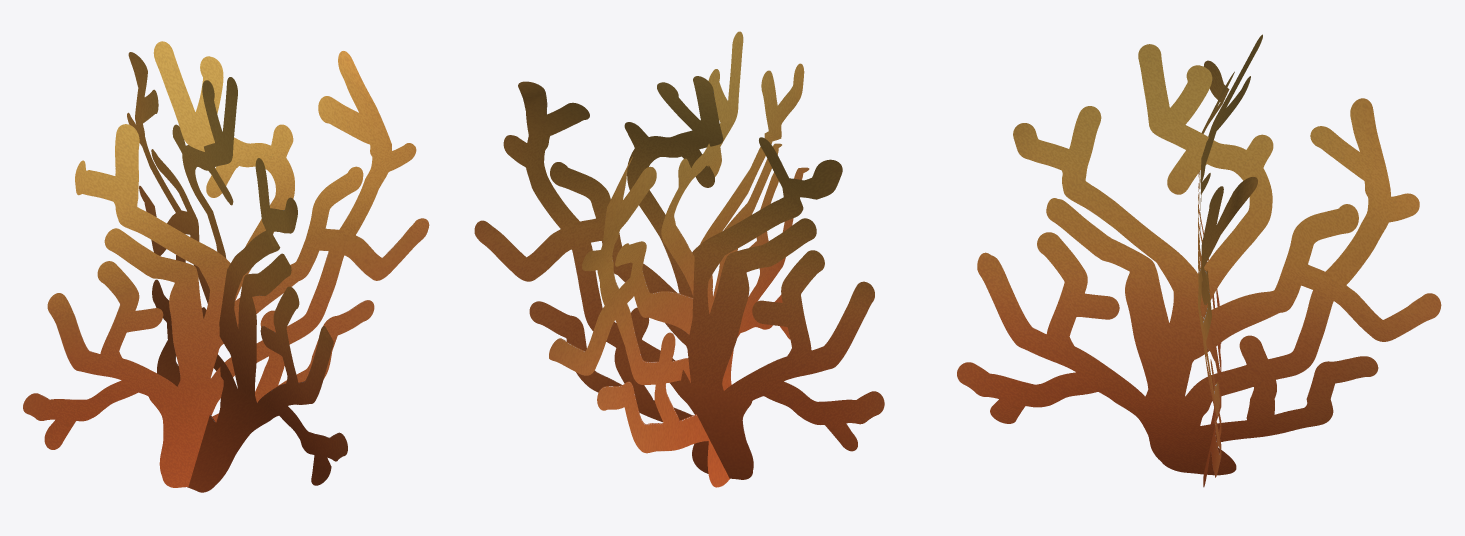
The model's file is coral_plant1.fbx.
3 views of the same model, side by side, from view 1: azimuth 30°, elevation 25°; view 2: azimuth 150°, elevation 25°; view 3: azimuth 270°, elevation 25° (orthographic). The views are drawn at different scales.
Visible parts, largest first — view 1: pPlane1, pPlane2; view 2: pPlane1, pPlane2; view 3: pPlane2, pPlane1.
Part boxes in pixels (<box>): pPlane1: <box>23,41,429,487</box>; pPlane2: <box>127,52,347,492</box>; pPlane1: <box>474,76,884,479</box>; pPlane2: <box>549,31,809,487</box>; pPlane2: <box>957,44,1441,475</box>; pPlane1: <box>1198,34,1262,487</box>.
Bounding box in the file's own units: 8.76 × 8.44 × 8.68.
